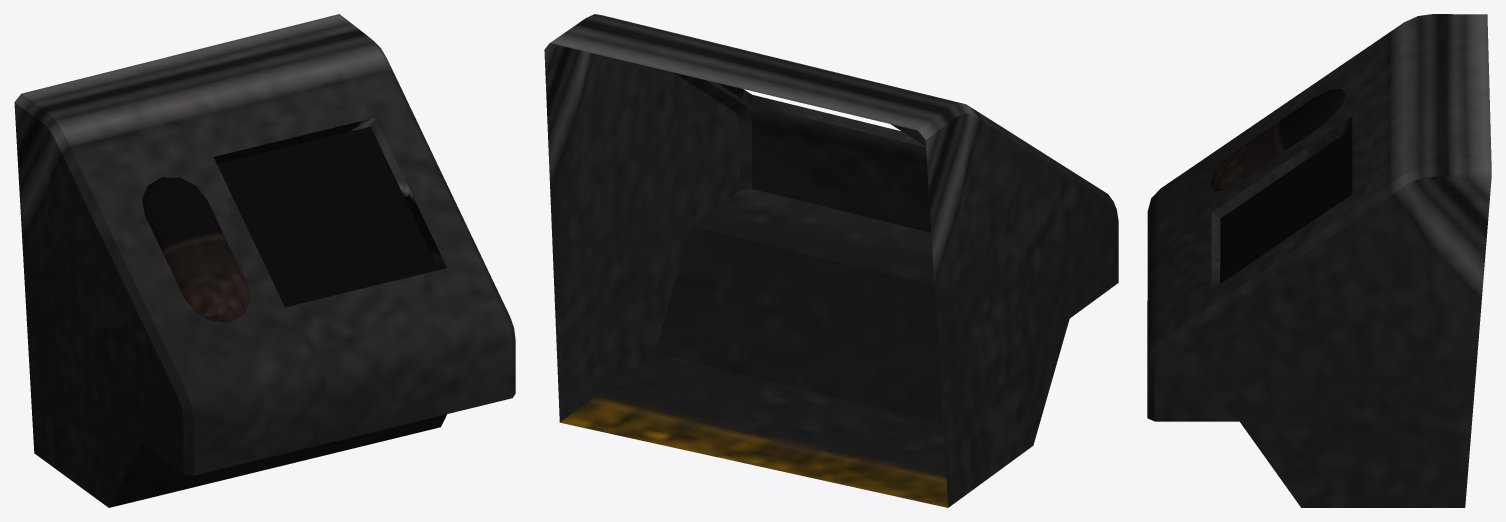
File: 01_05_transporter_passenger_radio.dae
3 renders of one model, left to right at view 1: azimuth 30°, elevation 25°; view 2: azimuth 150°, elevation 25°; view 3: azimuth 270°, elevation 25°, orthographic. The views are drawn at different scales.
Parts seen in each view (by area): view 1: radio, screen; view 2: radio; view 3: radio, screen.
Boxes of the visible parts, x1,y1,x2,y2 form: radio: (14,14,515,507); screen: (217,126,438,307); radio: (544,14,1118,507); radio: (1147,14,1491,507); screen: (1220,129,1352,283).
Size of the model in its own units: 0.7394 by 0.7324 by 0.6761.
